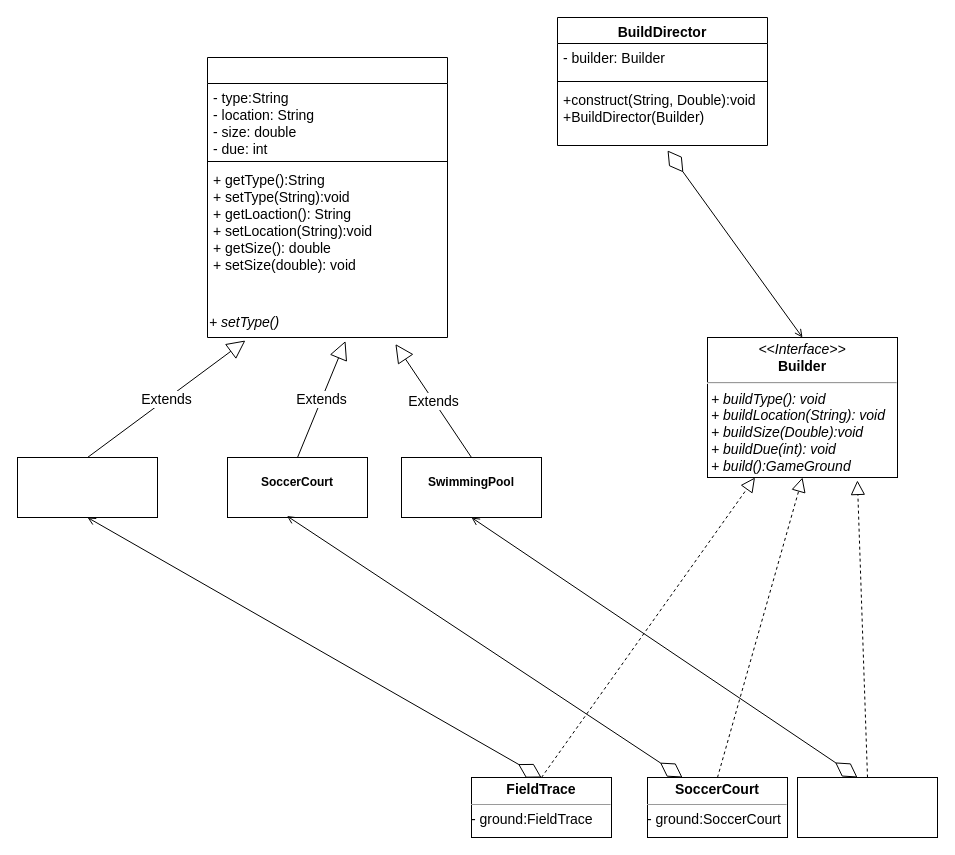
This 955x855 diagram has some shape labels left out. Here are the shapes that lost their labels. From the top down, the box of each, then its label:
(206, 56, 448, 338): GameGround
(16, 456, 158, 518): FieldTrace
(796, 776, 938, 838): SwimmingPool - ground:SoccerCourt
